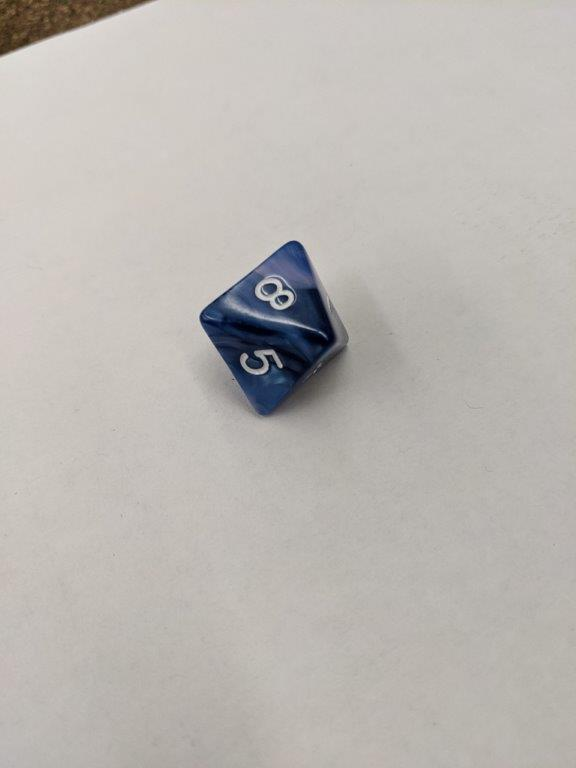d8-8: (201, 240, 354, 418)
